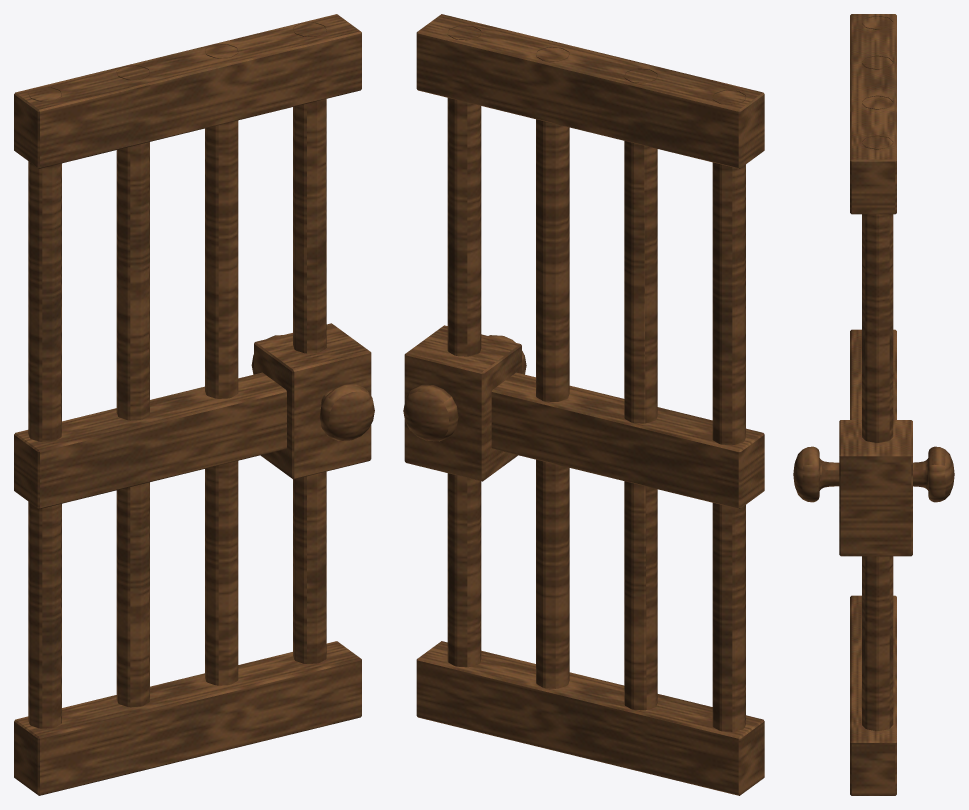
Rendered from Door.002.fbx.
The picture shows the model from 3 angles, left to right: view 1: azimuth 30°, elevation 25°; view 2: azimuth 150°, elevation 25°; view 3: azimuth 270°, elevation 25°; orthographic projection. The views are drawn at different scales.
Visible parts, largest first — view 1: Door.002; view 2: Door.002; view 3: Door.002.
Boxes of the visible parts, x1,y1,x2,y2 form: Door.002: [14, 14, 374, 795]; Door.002: [403, 14, 764, 795]; Door.002: [793, 14, 954, 795].
Bounding box in the file's own units: 1.06 × 2.12 × 0.4876.
1 material, 1 textured.
